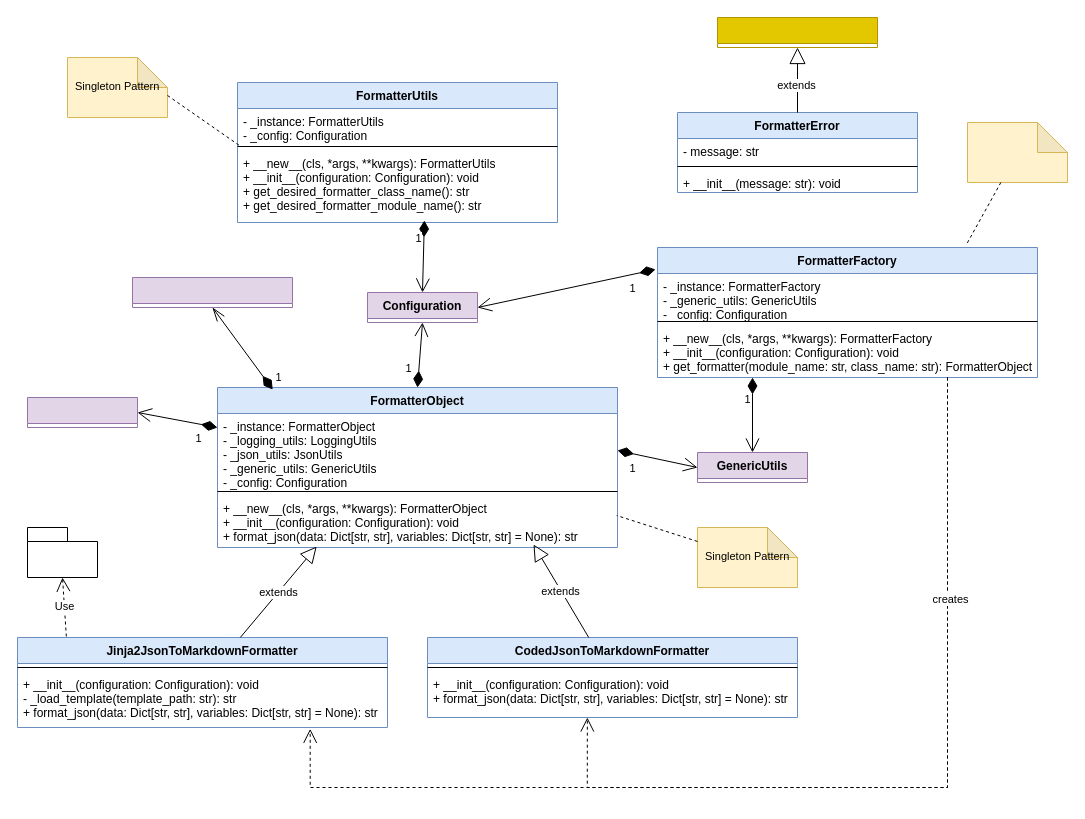
The diagram is 1085 pixels wide and 819 high, and some of its shapes have lost their labels. Here are the shapes that lost their labels. From the top down, the centre of each, then its label:
At pixel 797 32: "Exception".
At pixel 1017 152: "Singleton Pattern Factory Pattern".
At pixel 212 292: "JsonUtils".
At pixel 82 412: "LoggingUtils".
At pixel 62 552: "jinja2".
